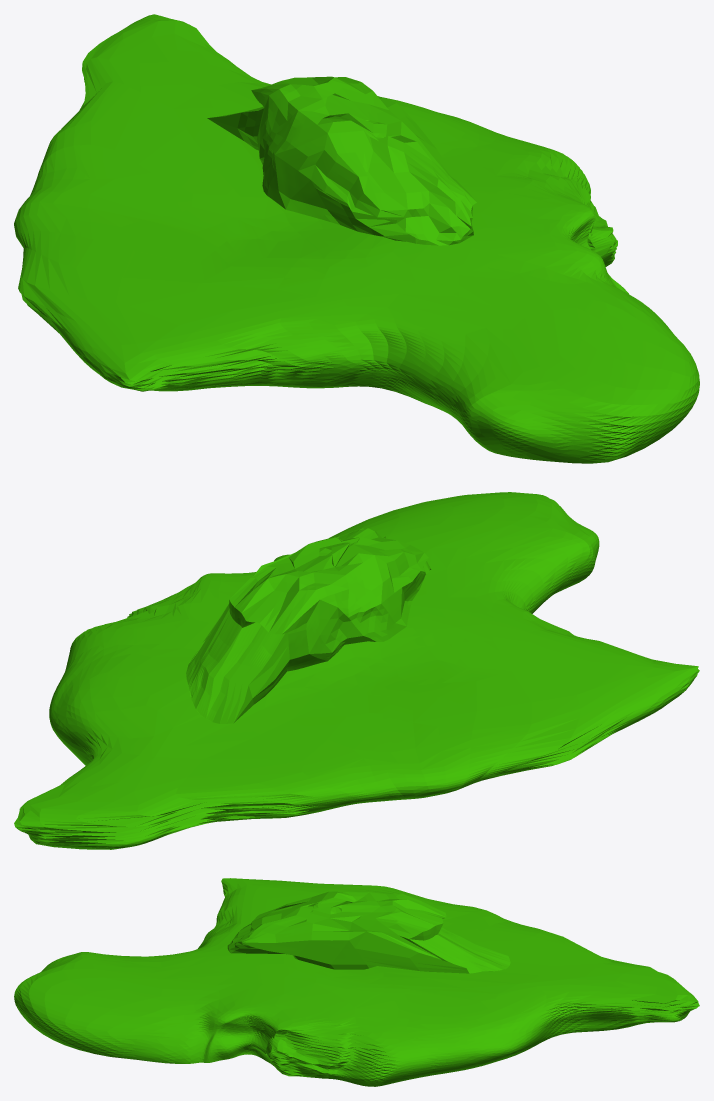
The model's file is Low_Poly_Island.fbx.
3 views of the same model, one above another, from view 1: azimuth 30°, elevation 25°; view 2: azimuth 150°, elevation 25°; view 3: azimuth 270°, elevation 25° (orthographic). The views are drawn at different scales.
Parts seen in each view (by area): view 1: Icosphere, Icosphere.001; view 2: Icosphere, Icosphere.001; view 3: Icosphere, Icosphere.001.
Part boxes in pixels (x1,y1,x2,y2): Icosphere: [14, 14, 699, 463]; Icosphere.001: [207, 76, 476, 245]; Icosphere: [14, 492, 699, 849]; Icosphere.001: [186, 528, 431, 723]; Icosphere: [14, 878, 699, 1086]; Icosphere.001: [227, 891, 510, 973].
Size of the model in its own units: 17146 by 4775 by 27214.
